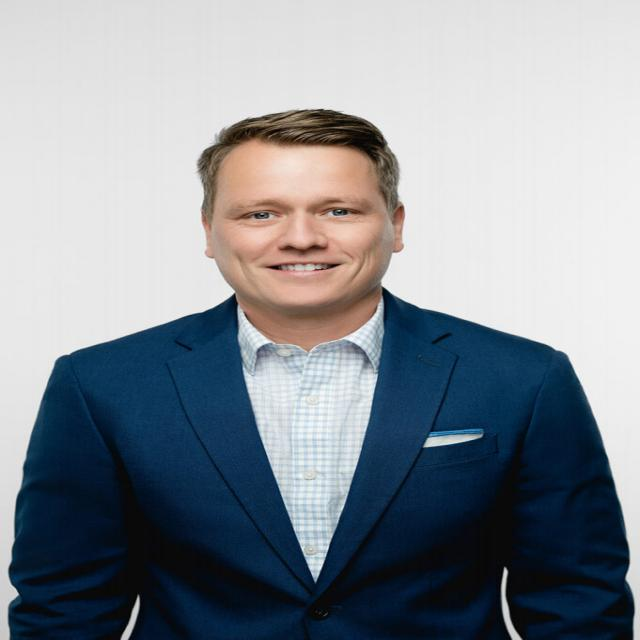nothing: (188, 103, 402, 209)
